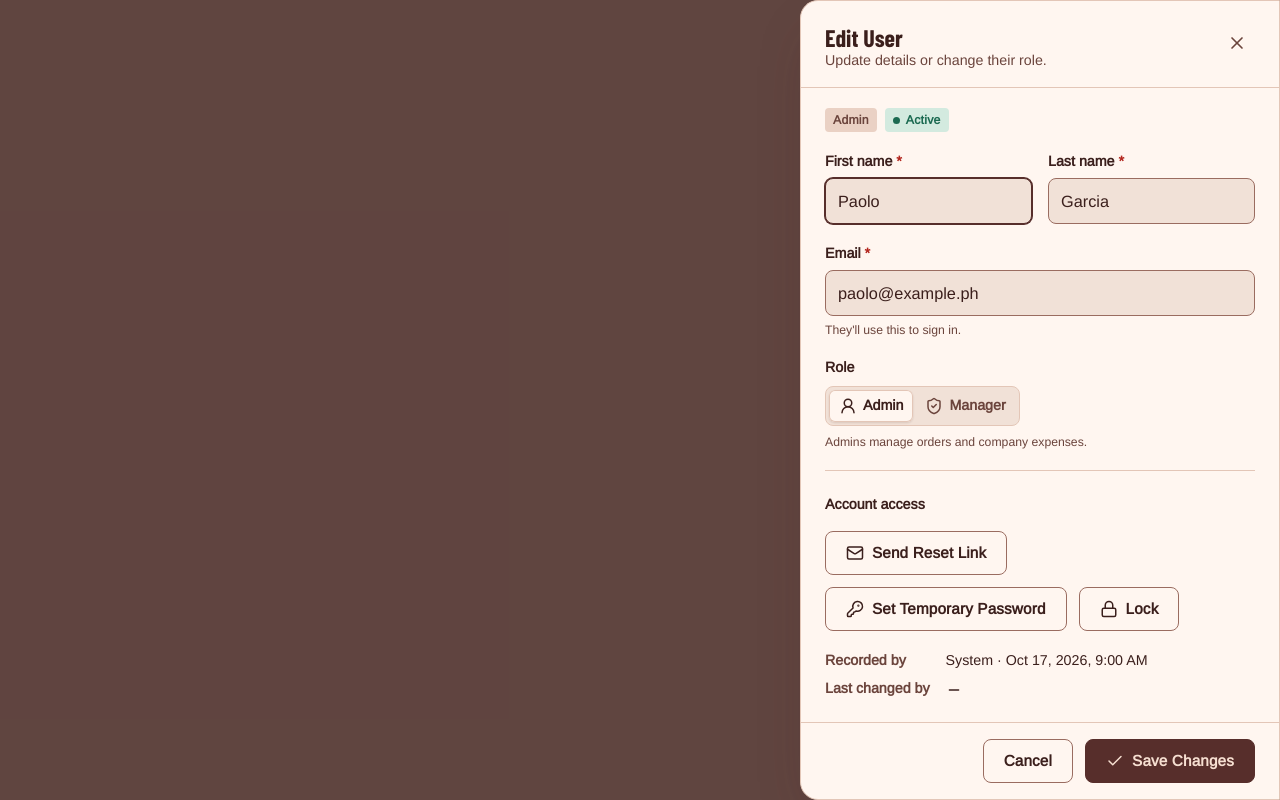
Test: U3 saving (USER-03) › shows Saving while the request runs and sends one request
The width and height of the screenshot is (1280, 800).
Expected: the field showing "Paolo" is shown, [826, 179, 1031, 223]
Click the button "Save Changes": (1170, 761) [1085, 739, 1255, 783]
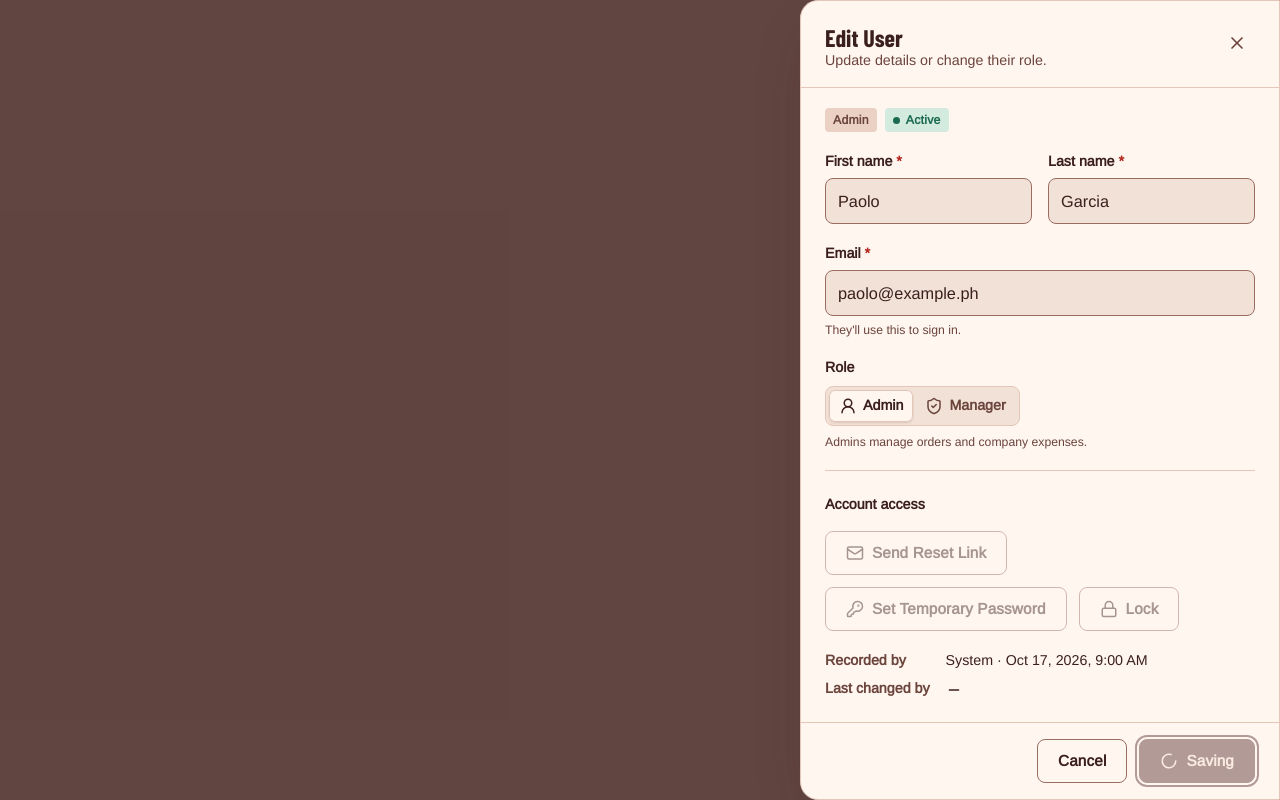
Click the button "Saving": (1197, 761) [1139, 739, 1255, 783]
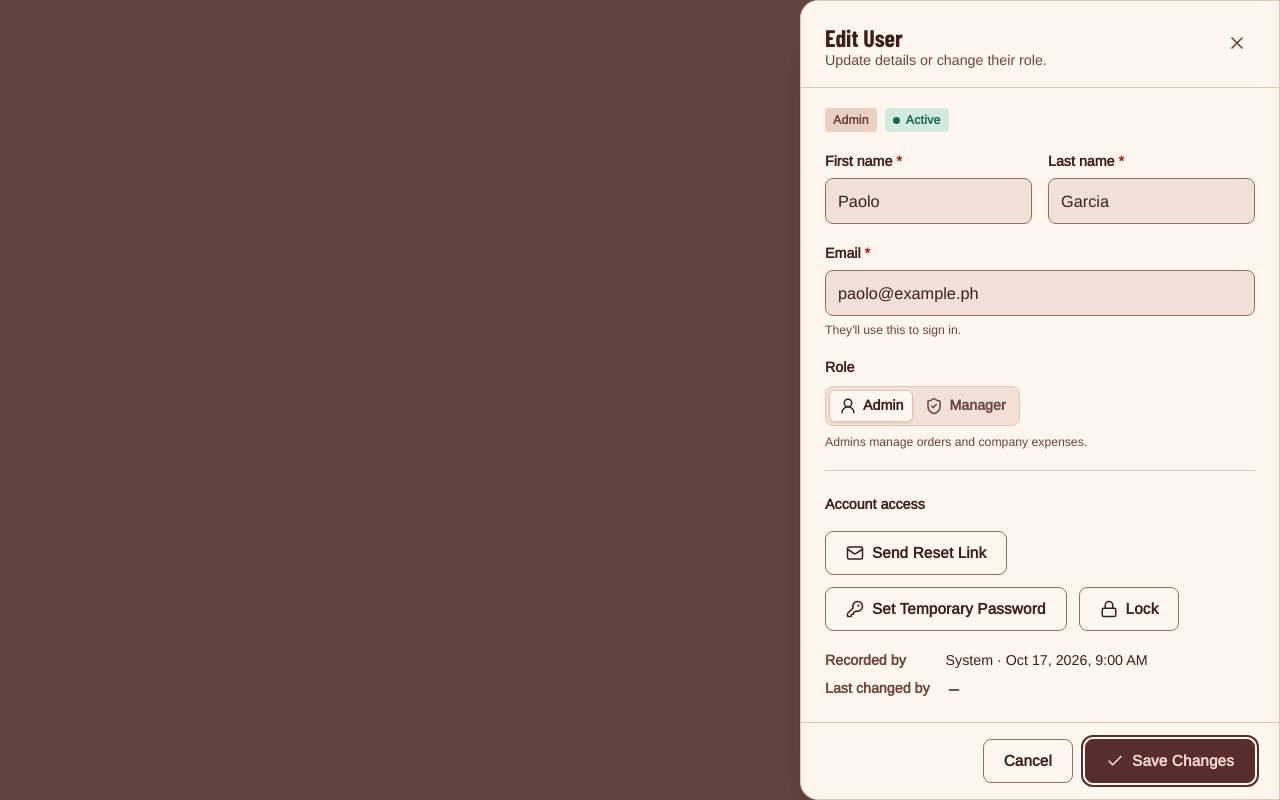
Result: the button "Save Changes" is shown at [1085, 739, 1255, 783]
